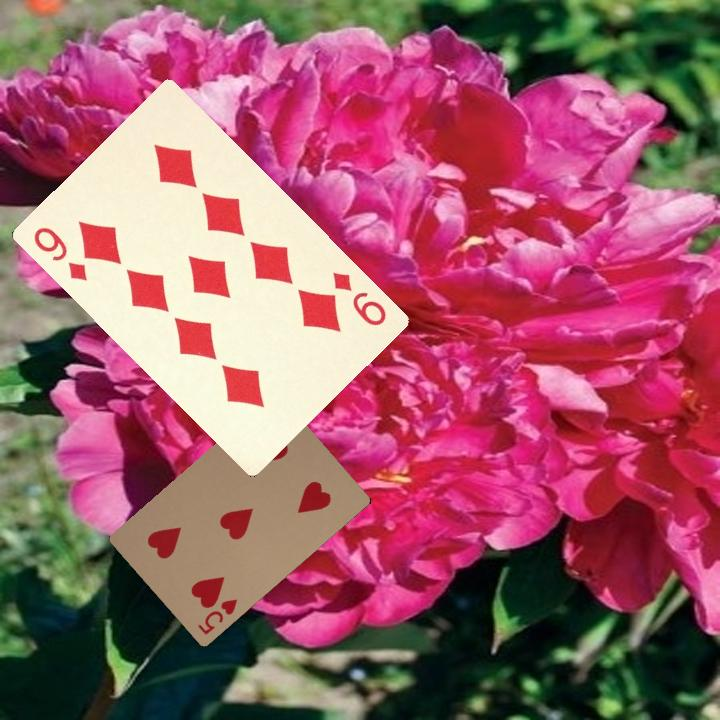5h: (193, 595, 240, 638)
9d: (29, 222, 91, 284), (328, 267, 389, 329)
